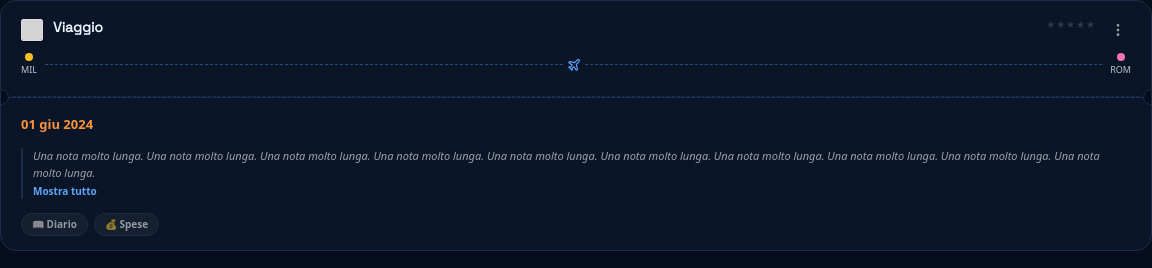
it: TripCardTicket — note › note lunghe: toggle Mostra tutto/Mostra meno espande e comprime
The width and height of the screenshot is (1152, 268).
Check: the text "Mostra tutto" is shown, box [33,184,97,198]
Click the button with aria-label "Espandi le note" at (566, 156), box [21,148,1131,199]
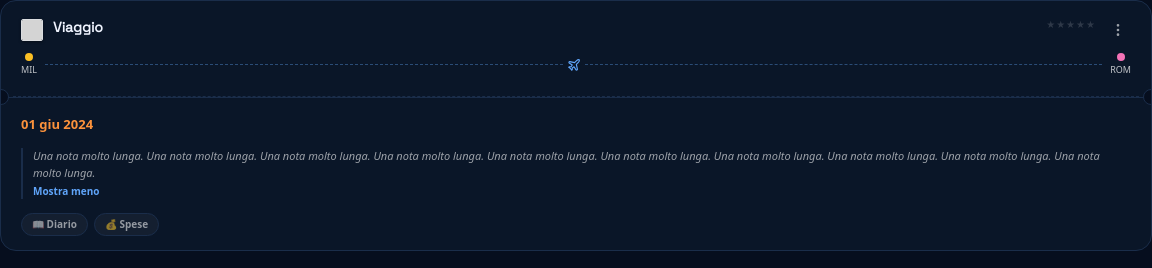
Check: the text "Mostra meno" is shown, box [33,184,99,198]
Click the button with aria-label "Comprimi le note" at (566, 156), box [21,148,1131,199]
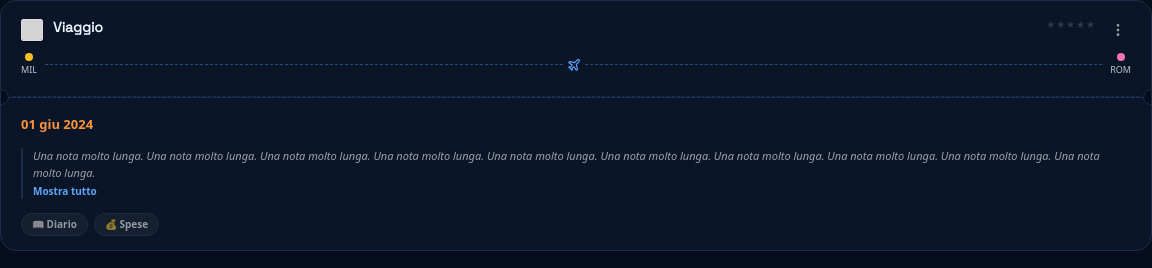
Check: the text "Mostra tutto" is shown, box [33,184,97,198]
